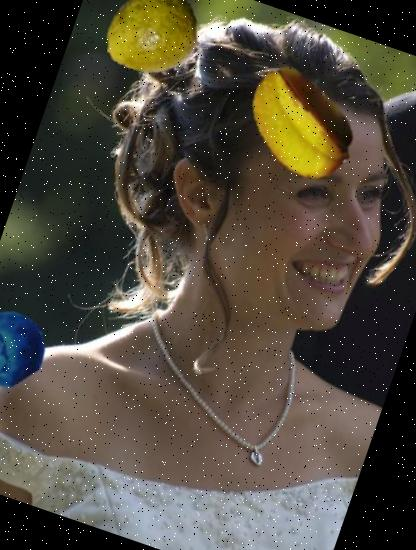Carambula: (224, 48, 374, 198)
Guava: (89, 0, 211, 94)
Huckleberry: (0, 300, 54, 395)
